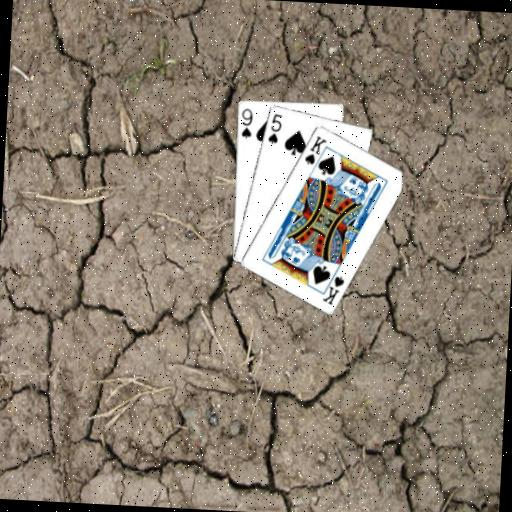5S: (265, 110, 284, 146)
9S: (238, 105, 255, 140)
KS: (318, 267, 347, 307), (301, 132, 328, 167)
